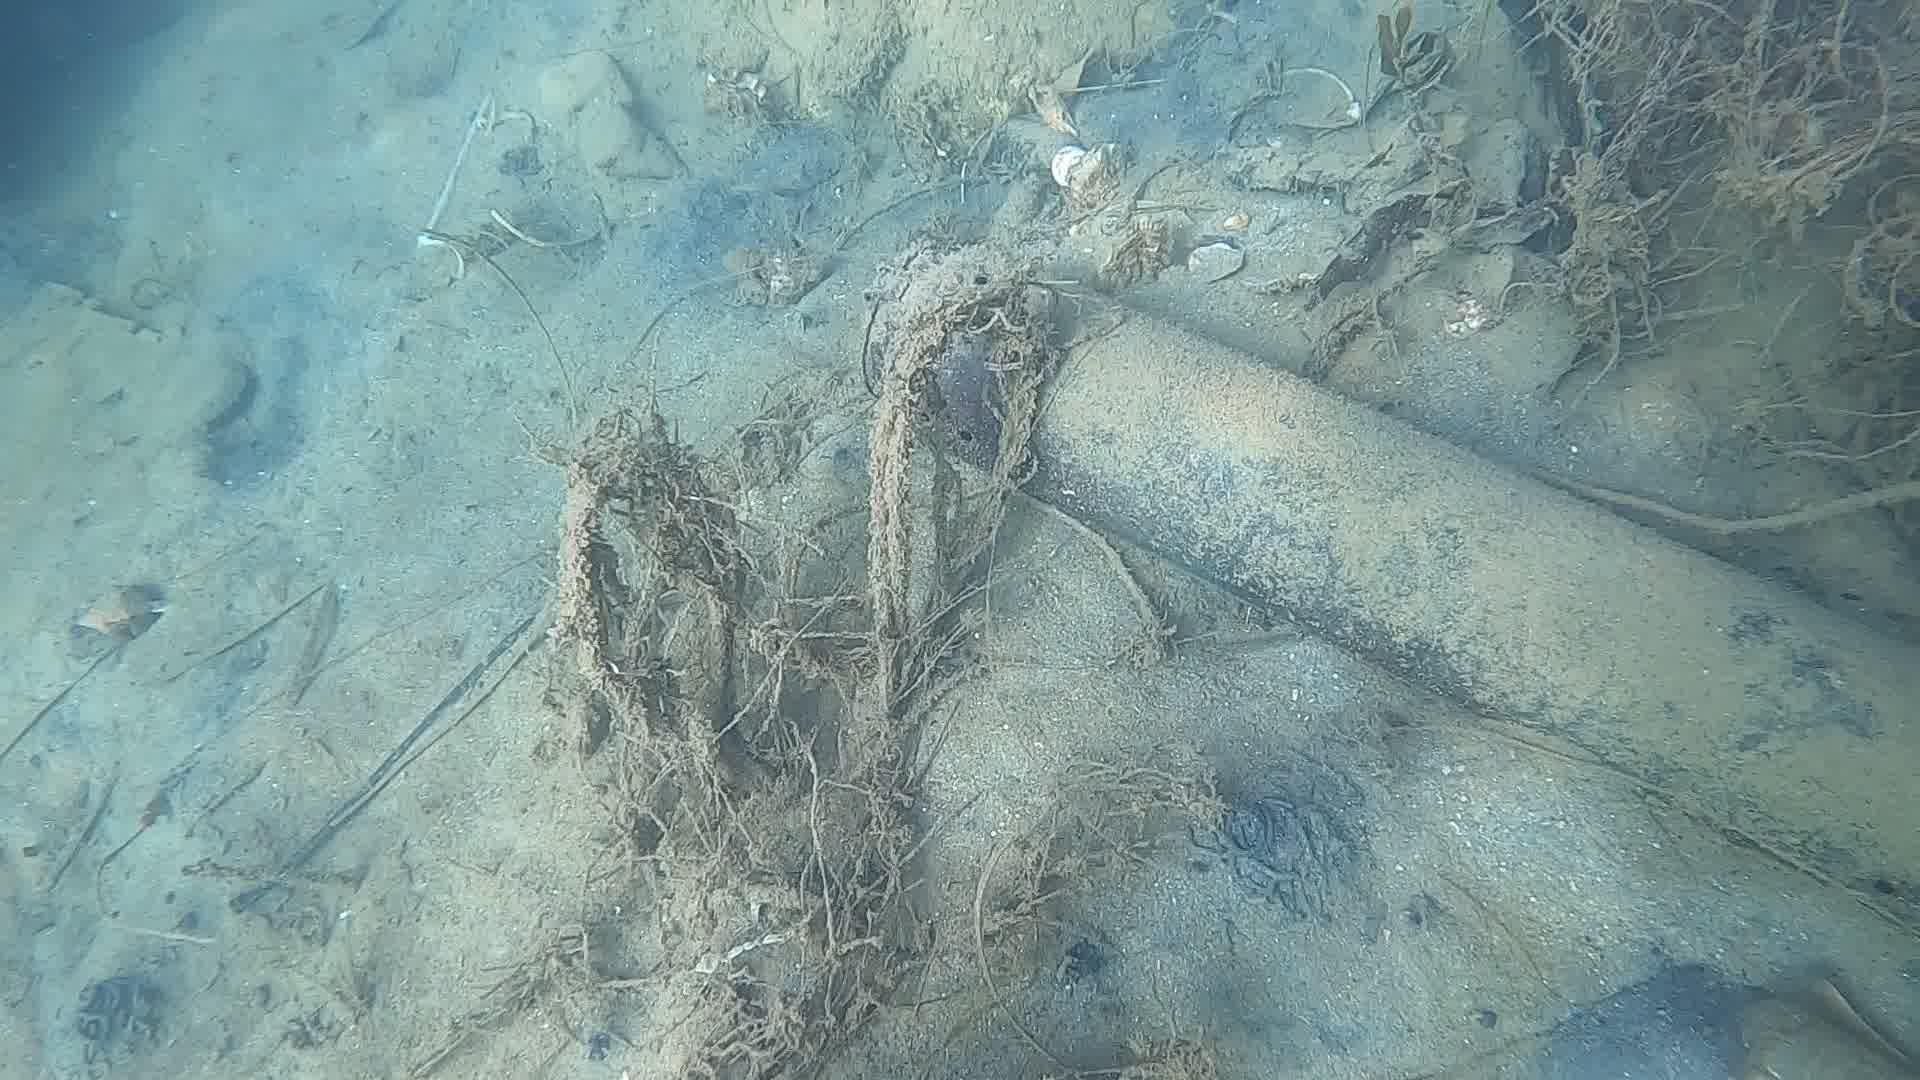eel fish trap: (856, 231, 1920, 919)
